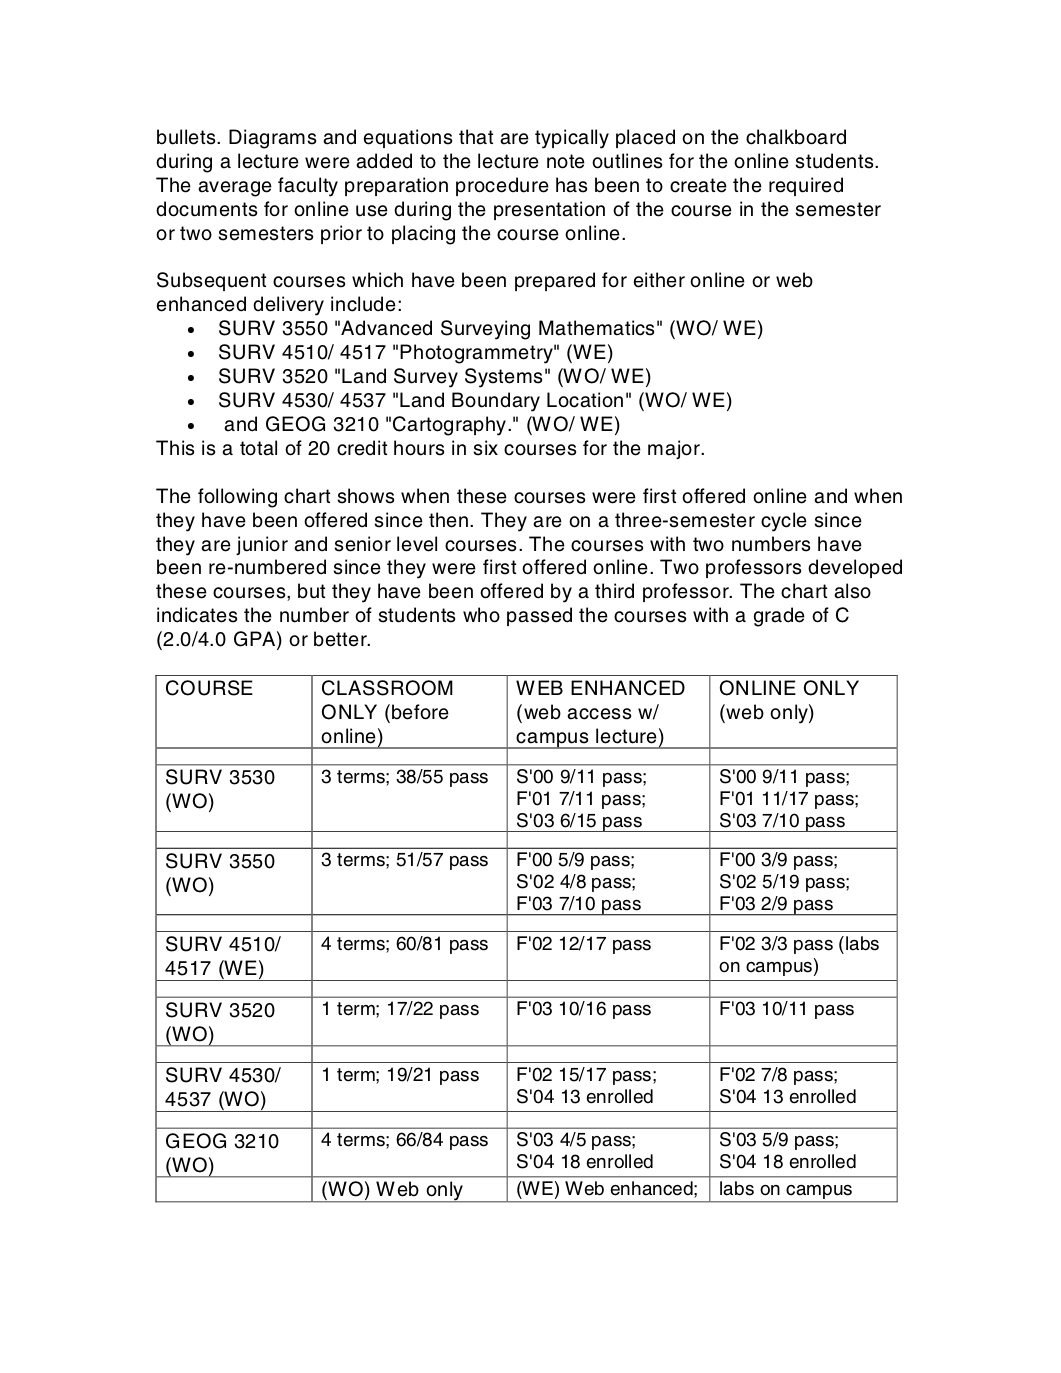Table: (155, 674, 897, 1202)
